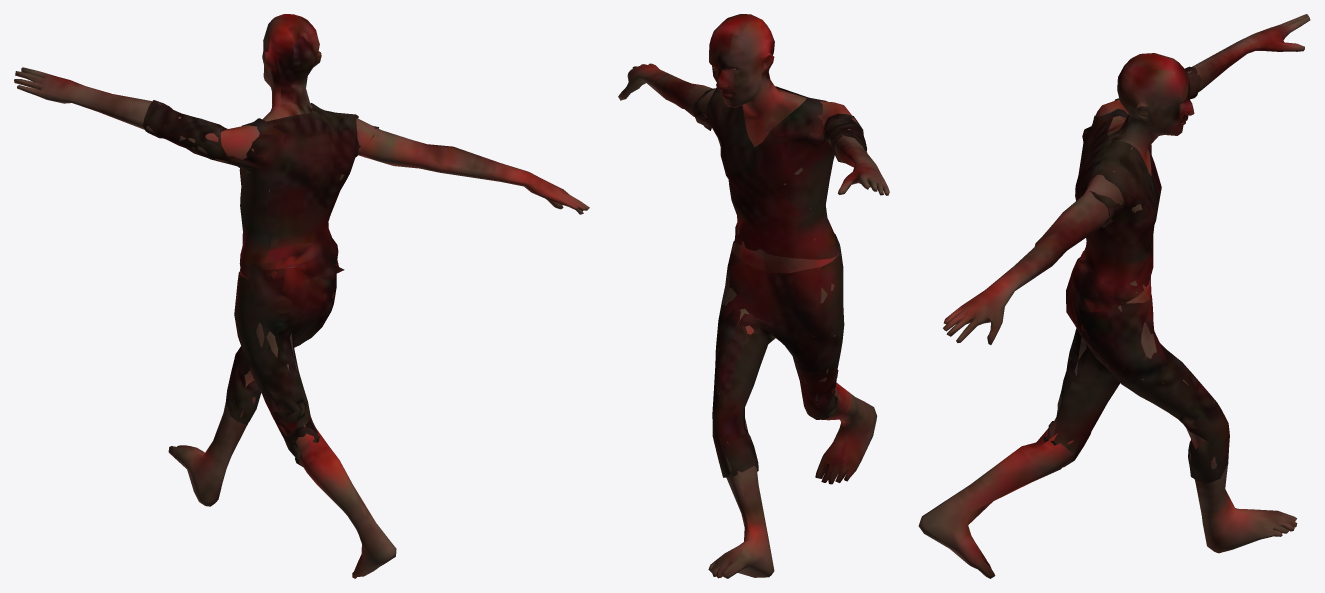
The model's file is zombie_run_2.glb.
The picture shows the model from 3 angles, left to right: view 1: azimuth 30°, elevation 25°; view 2: azimuth 150°, elevation 25°; view 3: azimuth 270°, elevation 25°; orthographic projection. The views are drawn at different scales.
Parts seen in each view (by area): view 1: CityDeadOutfit:Mesh1_pose; view 2: CityDeadOutfit:Mesh1_pose; view 3: CityDeadOutfit:Mesh1_pose.
Part boxes in pixels (box(x1,y1,x2,y2)): CityDeadOutfit:Mesh1_pose: box(14, 14, 589, 578); CityDeadOutfit:Mesh1_pose: box(618, 14, 889, 578); CityDeadOutfit:Mesh1_pose: box(918, 14, 1310, 578).
Size of the model in its own units: 1.5 by 1.75 by 1.19.
Materials: 3 (2 with a texture image).
